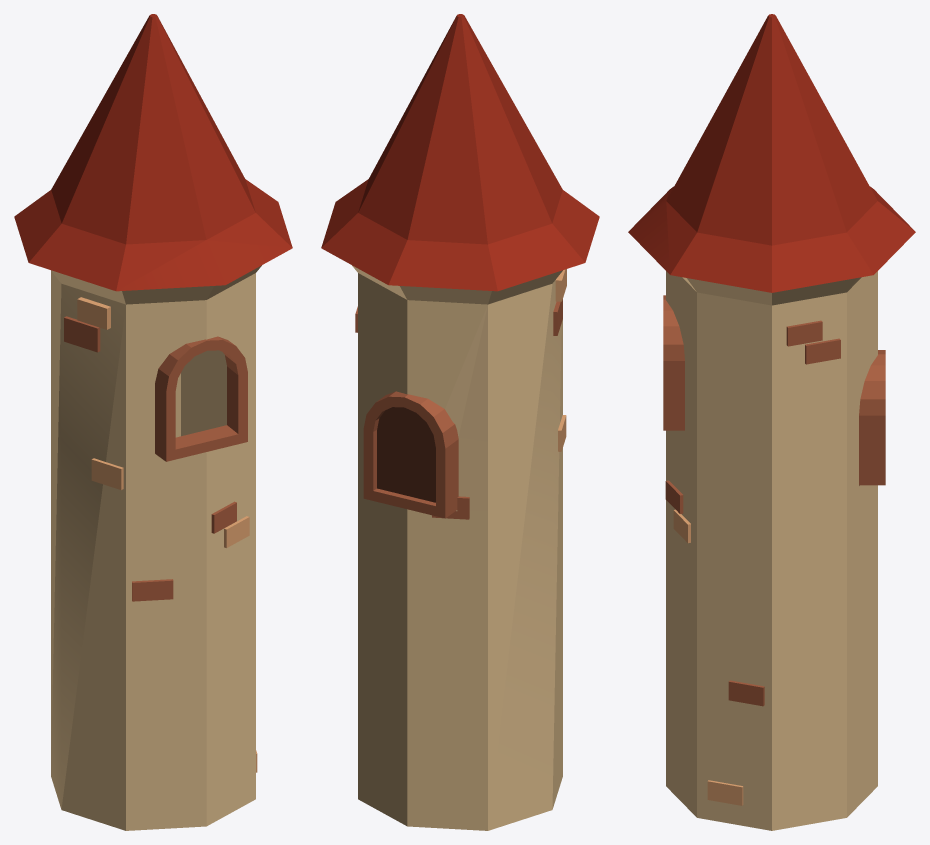
File: Tower_3-mdedit.glb
3 views of the same model, side by side, from view 1: azimuth 30°, elevation 25°; view 2: azimuth 150°, elevation 25°; view 3: azimuth 270°, elevation 25° (orthographic).
Parts seen in each view (by area): view 1: Tower_3; view 2: Tower_3; view 3: Tower_3.
Part boxes in pixels (box(x1,y1,x2,y2)): Tower_3: box(14, 14, 292, 830); Tower_3: box(321, 14, 599, 830); Tower_3: box(628, 14, 915, 830).
Bounding box in the file's own units: 2 × 5.91 × 2.
Materials: 5 (1 with a texture image).
